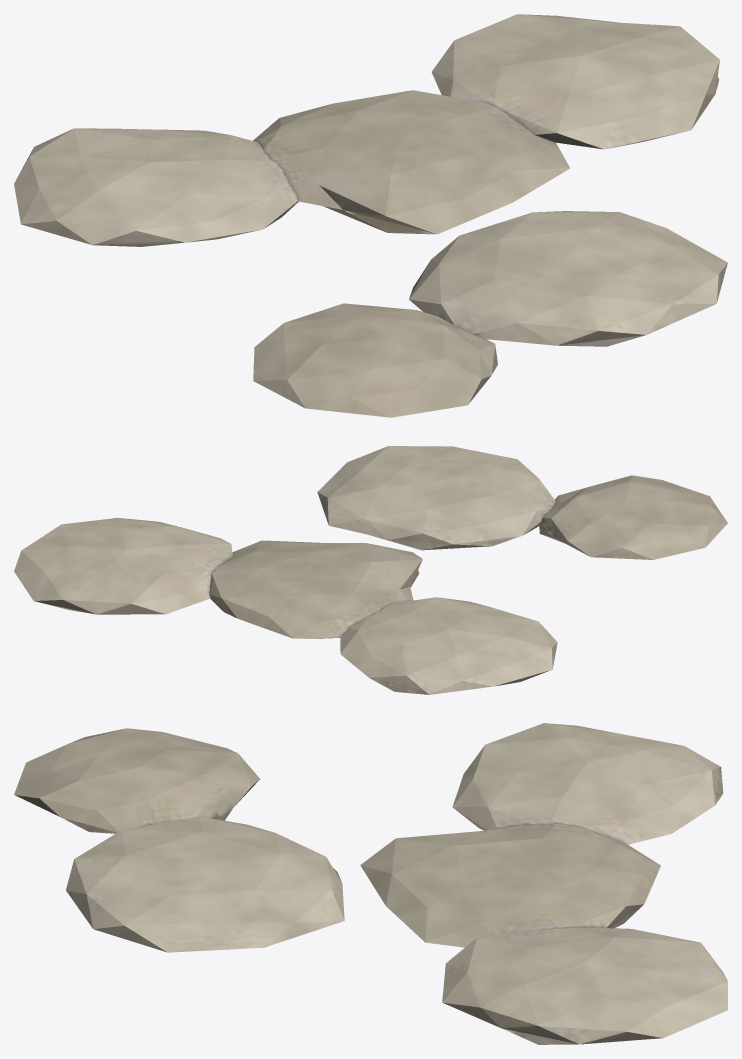
Rendered from stone_path.glb.
The picture shows the model from 3 angles, top to bottom: view 1: azimuth 30°, elevation 25°; view 2: azimuth 150°, elevation 25°; view 3: azimuth 270°, elevation 25°; orthographic projection. The views are drawn at different scales.
Parts seen in each view (by area): view 1: stone_path; view 2: stone_path; view 3: stone_path.
Part boxes in pixels (x1,y1,x2,y2): stone_path: (14, 14, 727, 417); stone_path: (14, 446, 727, 694); stone_path: (14, 723, 727, 1044).
Size of the model in its own units: 0.894 by 0.0411 by 0.8461.
Materials: 1 (1 with a texture image).
